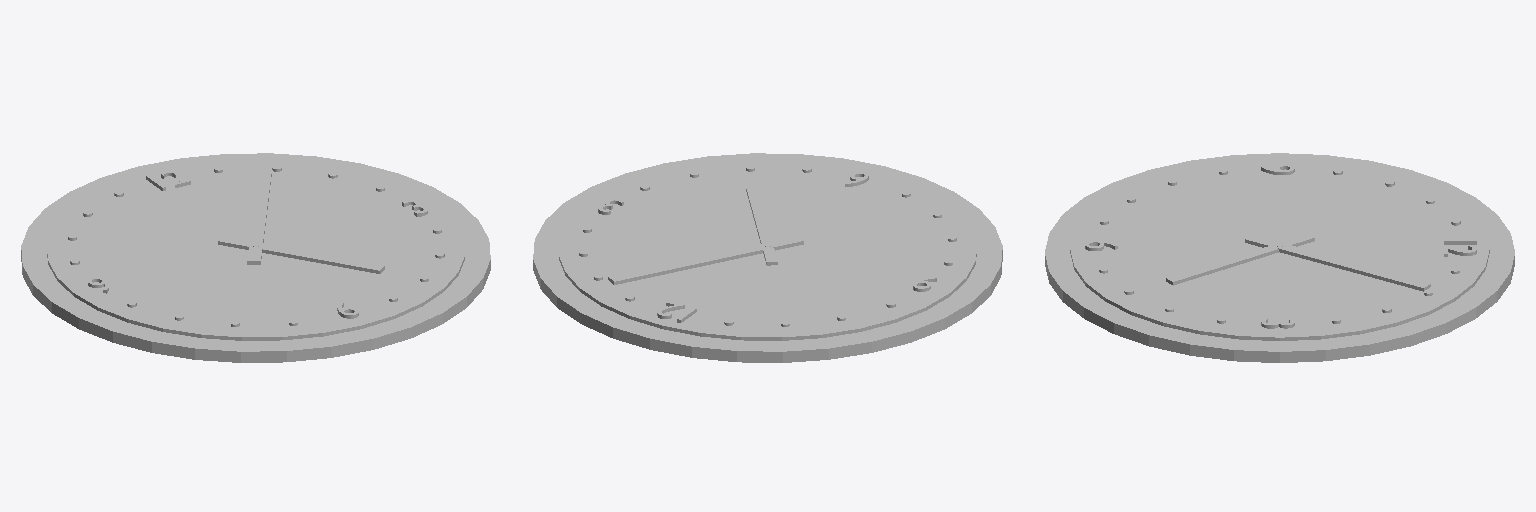
Rendered from clock.obj.
3 views of the same model, side by side, from view 1: azimuth 30°, elevation 25°; view 2: azimuth 150°, elevation 25°; view 3: azimuth 270°, elevation 25° (orthographic).
Visible parts, largest first — view 1: smoked_glasBoard_smoked_glas, BlackPlate_Black.001, Cube.001, Cube, Circle_Black; view 2: smoked_glasBoard_smoked_glas, BlackPlate_Black.001, Cube, Cube.001, Circle_Black; view 3: smoked_glasBoard_smoked_glas, BlackPlate_Black.001, Cube, Cube.001, Circle_Black.
Part boxes in pixels (bbox=[...]): smoked_glasBoard_smoked_glas: bbox=[47, 161, 464, 340]; BlackPlate_Black.001: bbox=[21, 153, 490, 362]; Cube.001: bbox=[218, 237, 384, 273]; Cube: bbox=[247, 171, 271, 264]; Circle_Black: bbox=[68, 166, 444, 326]; smoked_glasBoard_smoked_glas: bbox=[559, 161, 976, 340]; BlackPlate_Black.001: bbox=[533, 153, 1002, 362]; Cube: bbox=[608, 236, 803, 284]; Cube.001: bbox=[746, 188, 777, 265]; Circle_Black: bbox=[579, 165, 956, 326]; smoked_glasBoard_smoked_glas: bbox=[1070, 160, 1489, 340]; BlackPlate_Black.001: bbox=[1045, 153, 1514, 362]; Cube: bbox=[1245, 235, 1430, 291]; Cube.001: bbox=[1166, 234, 1314, 285]; Circle_Black: bbox=[1099, 169, 1460, 323].
Bounding box in the file's own units: 33.45 × 1.9 × 33.45.